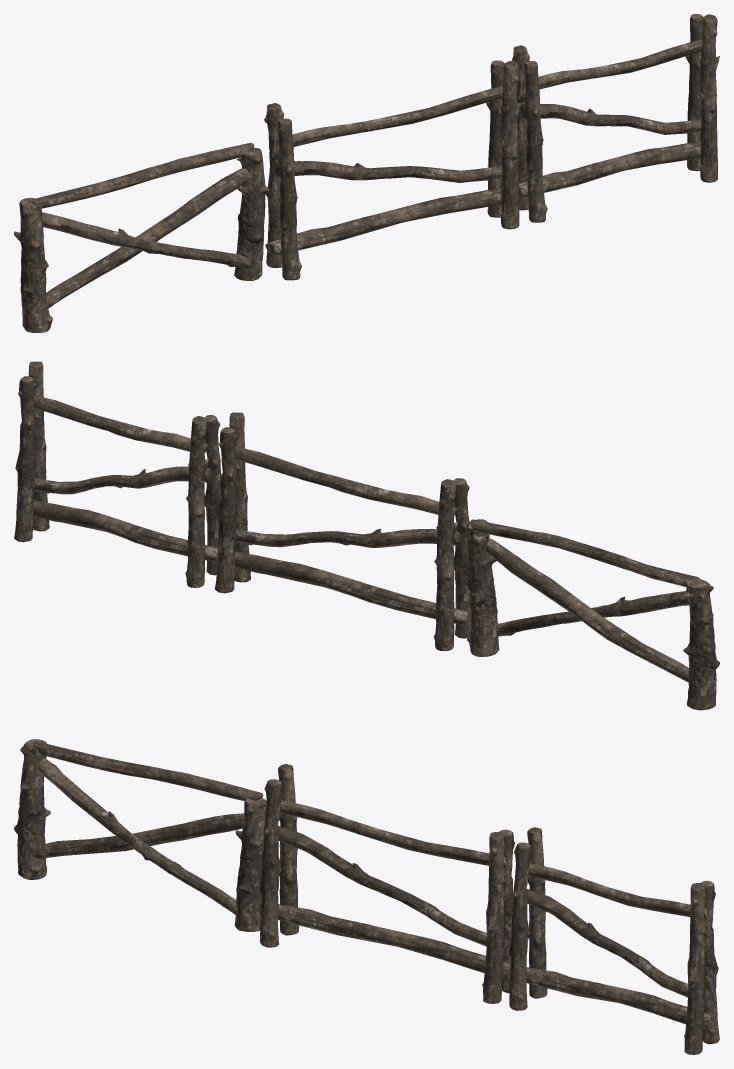
Rendered from SM_Fence_01b_Splines_30.fbx.
3 views of the same model, one above another, from view 1: azimuth 30°, elevation 25°; view 2: azimuth 150°, elevation 25°; view 3: azimuth 330°, elevation 25° (orthographic). The views are drawn at different scales.
Parts seen in each view (by area): view 1: SM_Fence_01b_Splines_24_LOD0; view 2: SM_Fence_01b_Splines_24_LOD0; view 3: SM_Fence_01b_Splines_24_LOD0.
Part boxes in pixels (box(x1,y1,x2,y2)): SM_Fence_01b_Splines_24_LOD0: box(14, 14, 719, 332); SM_Fence_01b_Splines_24_LOD0: box(14, 361, 719, 710); SM_Fence_01b_Splines_24_LOD0: box(14, 739, 719, 1054).
Bounding box in the file's own units: 622 × 51.69 × 140.
